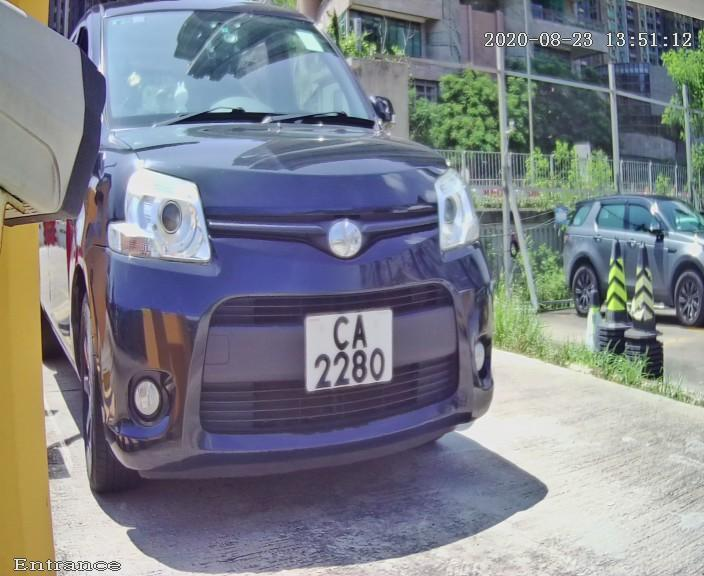License Plate: (296, 299, 400, 407)
